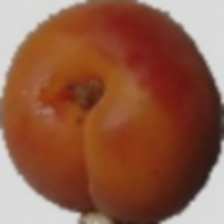apricot: (28, 0, 170, 188)
